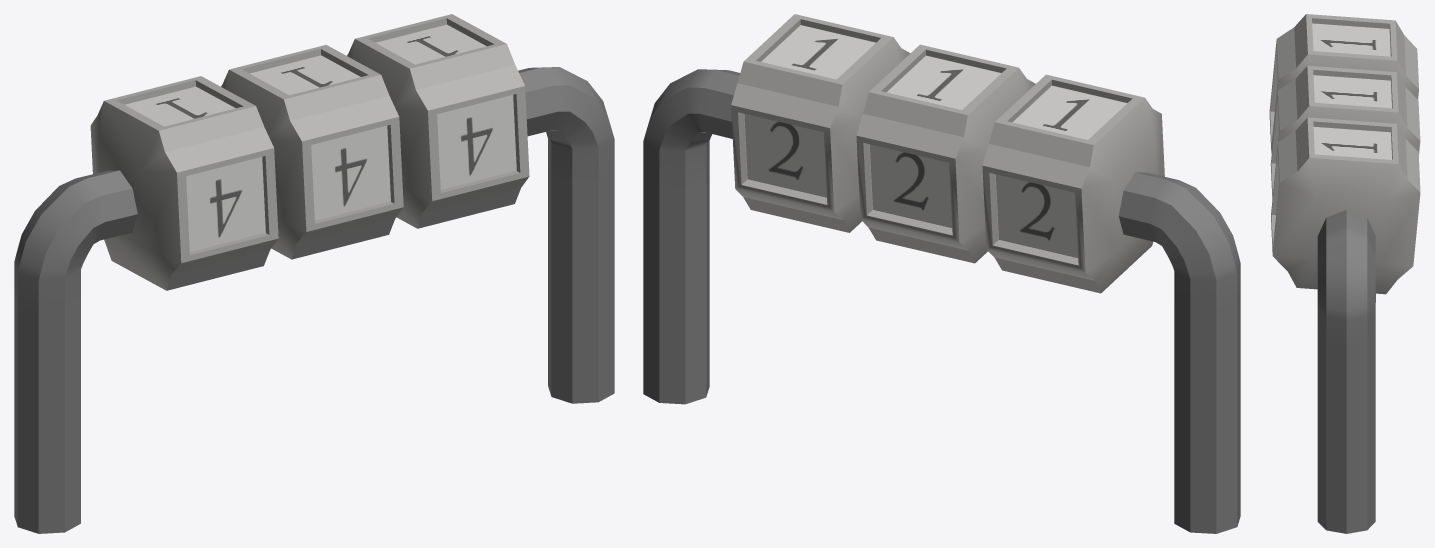
File: cijfer rat.fbx
3 views of the same model, side by side, from view 1: azimuth 30°, elevation 25°; view 2: azimuth 150°, elevation 25°; view 3: azimuth 270°, elevation 25° (orthographic). The views are drawn at different scales.
Visible parts, largest first — view 1: houdercijferrack, cijferblok_3, cijfer_blok_1, cijfer_blok_2; view 2: houdercijferrack, cijferblok_3, cijfer_blok_2, cijfer_blok_1; view 3: cijfer_blok_1, houdercijferrack, cijferblok_3, cijfer_blok_2.
Part boxes in pixels (<box>): houdercijferrack: <box>14,67,614,533</box>; cijferblok_3: <box>90,76,278,290</box>; cijfer_blok_1: <box>347,14,529,228</box>; cijfer_blok_2: <box>221,45,403,259</box>; houdercijferrack: <box>643,69,1240,533</box>; cijferblok_3: <box>982,74,1164,293</box>; cijfer_blok_2: <box>856,44,1035,263</box>; cijfer_blok_1: <box>731,14,910,232</box>; cijfer_blok_1: <box>1271,117,1420,294</box>; houdercijferrack: <box>1317,210,1375,533</box>; cijferblok_3: <box>1269,14,1418,152</box>; cijfer_blok_2: <box>1270,65,1420,198</box>.
Size of the model in its own units: 11.16 by 6.93 by 2.92.
3 materials, 1 textured.
